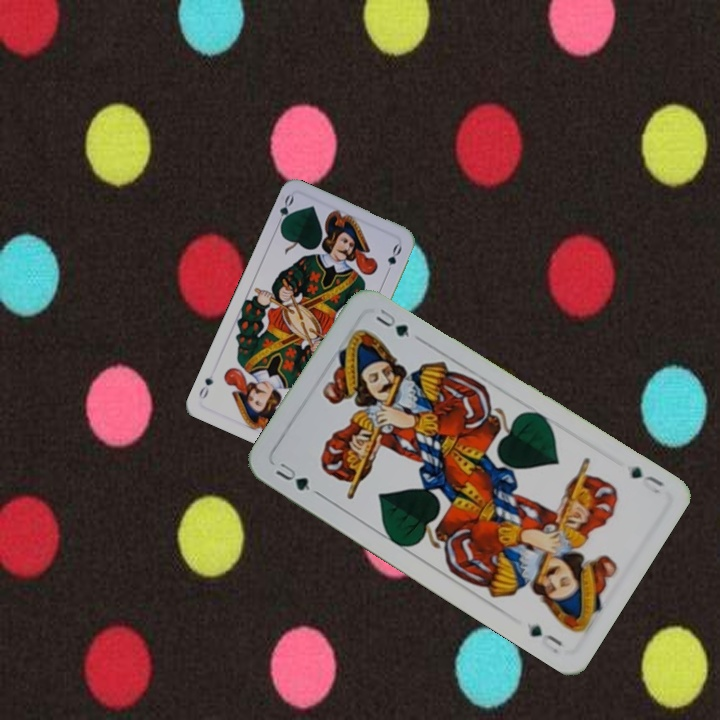GO: (272, 191, 296, 232)
GU: (271, 458, 313, 494), (626, 462, 668, 496)
